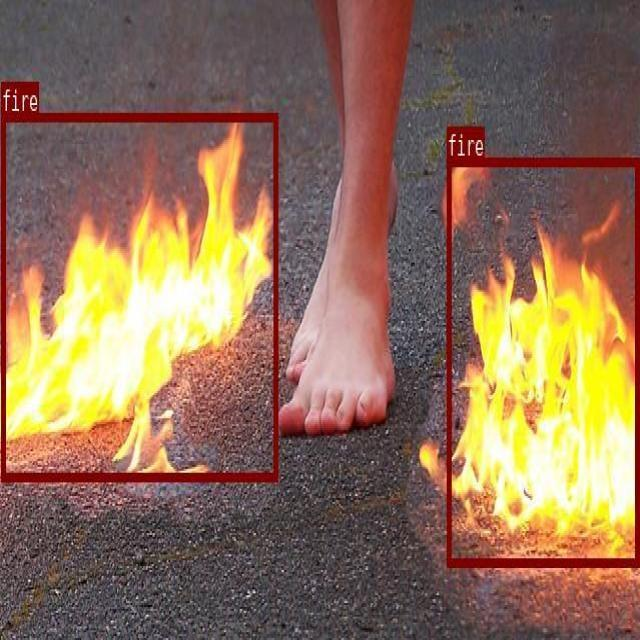fire: (1, 112, 278, 479), (447, 158, 638, 564)
